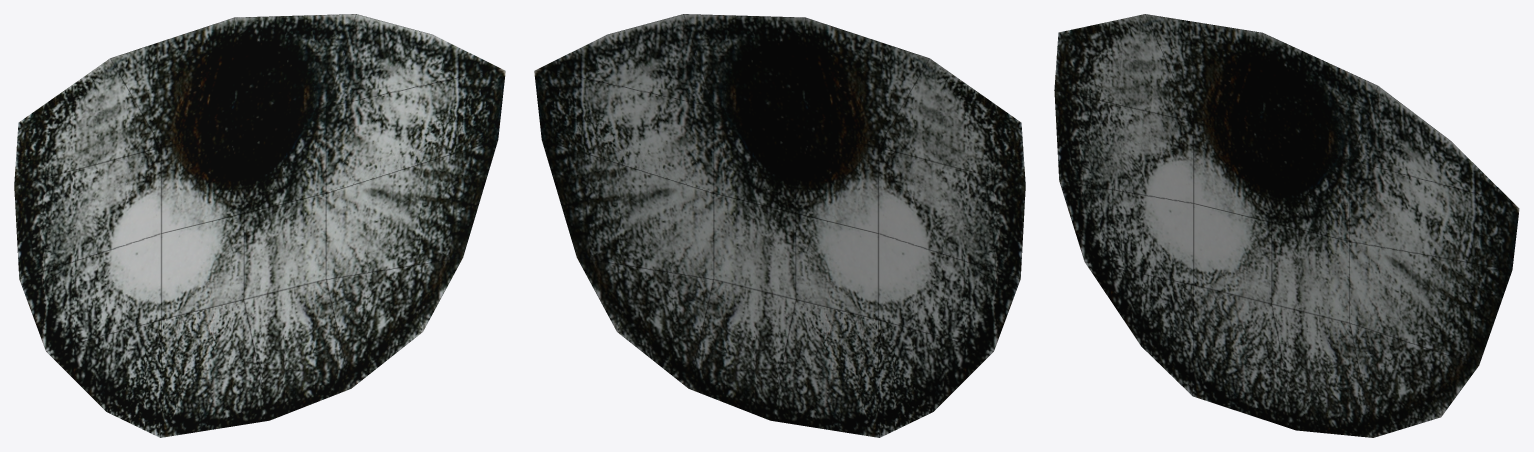
The model's file is eye.fbx.
The picture shows the model from 3 angles, left to right: view 1: azimuth 30°, elevation 25°; view 2: azimuth 150°, elevation 25°; view 3: azimuth 330°, elevation 25°; orthographic projection. The views are drawn at different scales.
Visible parts, largest first — view 1: pPlane1; view 2: pPlane1; view 3: pPlane1.
Boxes of the visible parts, x1,y1,x2,y2 form: pPlane1: (14, 14, 505, 437); pPlane1: (534, 14, 1025, 437); pPlane1: (1054, 14, 1519, 437).
Bounding box in the file's own units: 4.73 × 3.78 × 0.
1 material, 1 textured.
